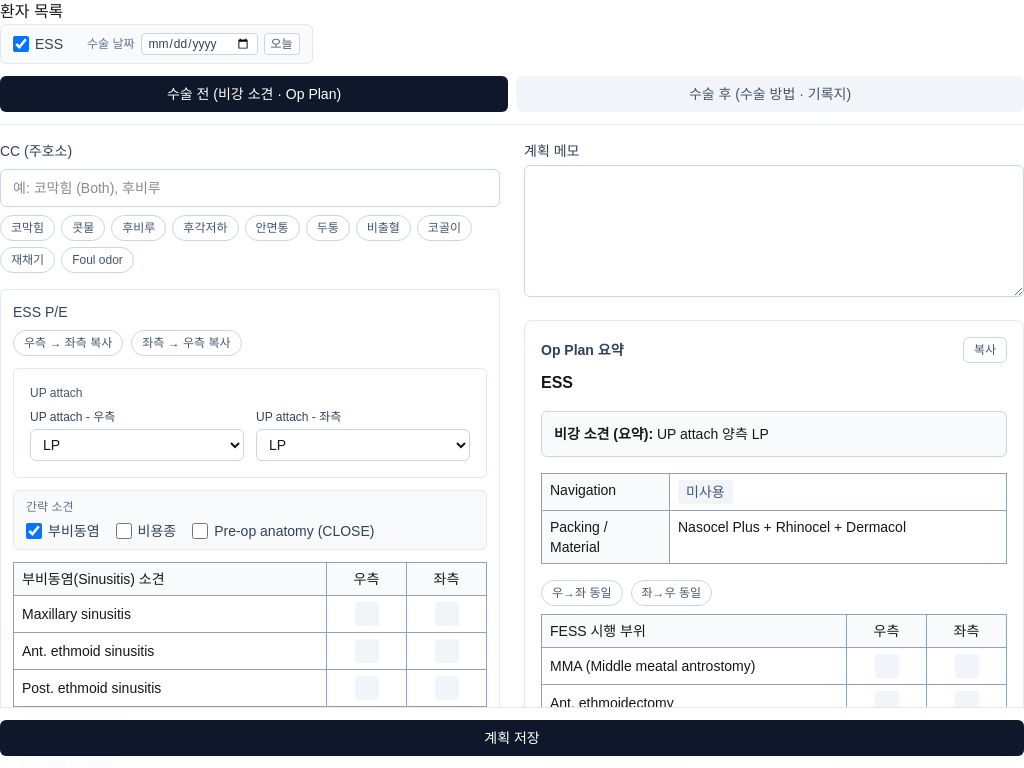
Scenario: 계획 화면 사용성 › 입력을 바꾼 뒤 앱 안의 다른 링크를 누르면 이동을 막고 세 가지 선택 창을 띄운다, 취소하면 남는다
This screenshot has width=1024, height=768.
Type "메모" into the text box named "planNote".
click(774, 231); type("메모")  # box [524,165,1023,297]
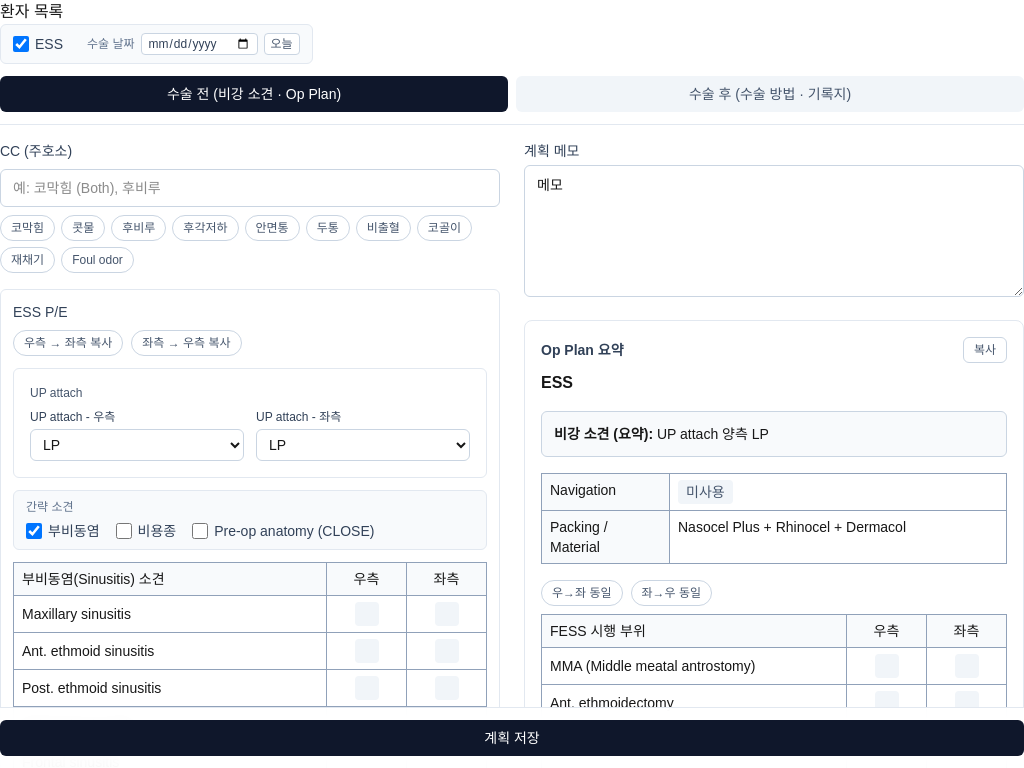
Click the link to "/patients".
click(32, 12)  # box [0,3,63,20]
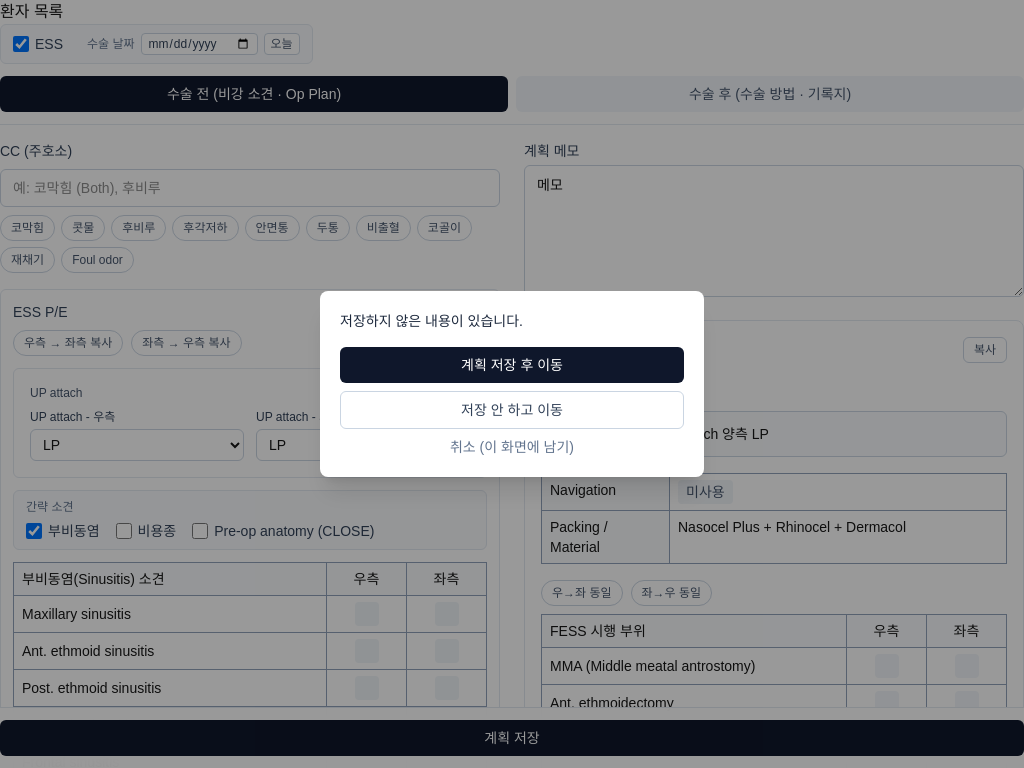
Expected: the dialog is shown
Click the button "취소 (이 화면에 남기)".
click(512, 447)  # box [340,437,684,457]
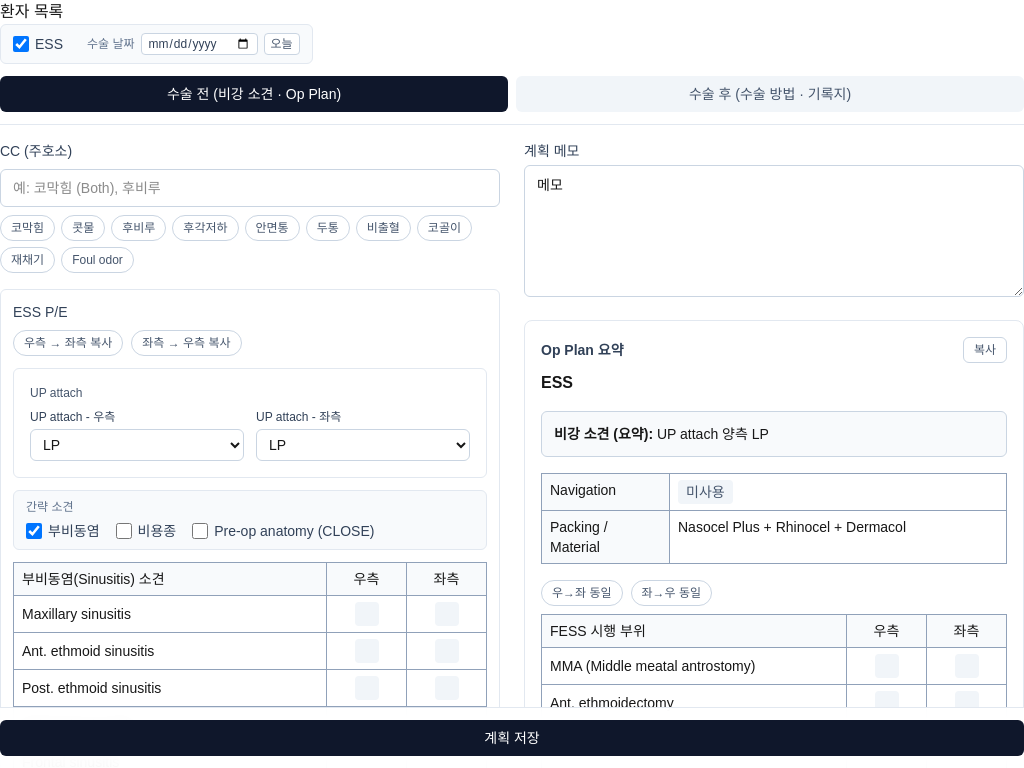
Expected: the dialog is gone
